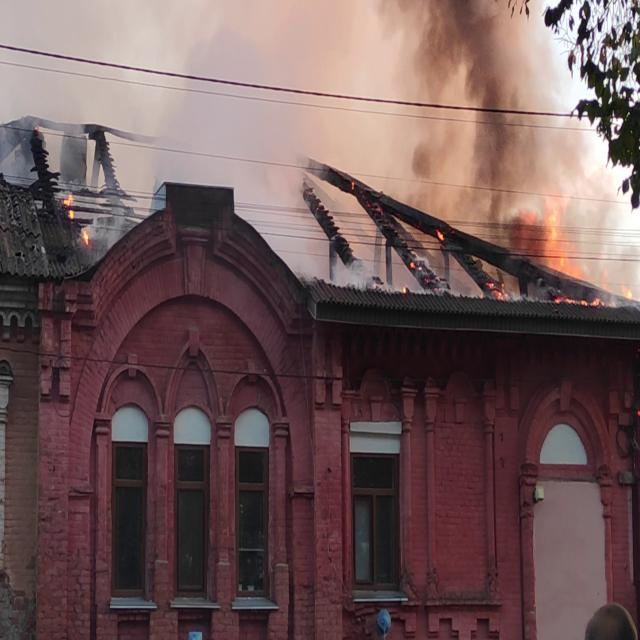fire: (508, 190, 634, 308)
smoke: (444, 1, 539, 187)
